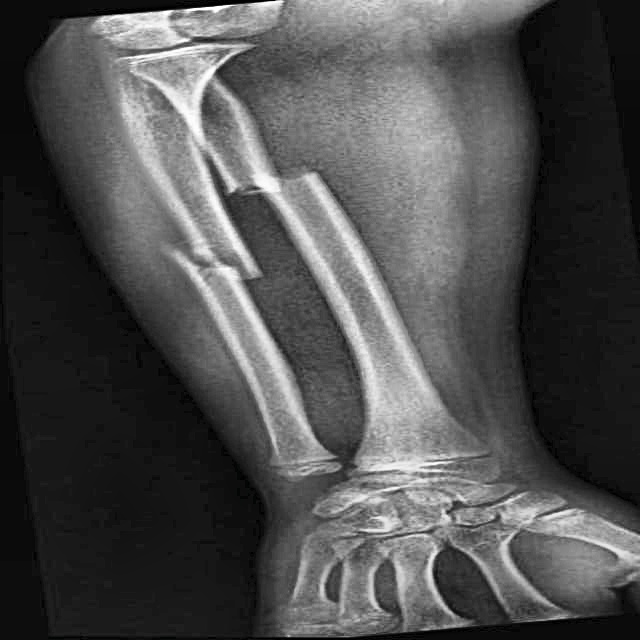Oblique Displaced: (130, 217, 292, 307)
Transverse: (196, 149, 357, 210)
